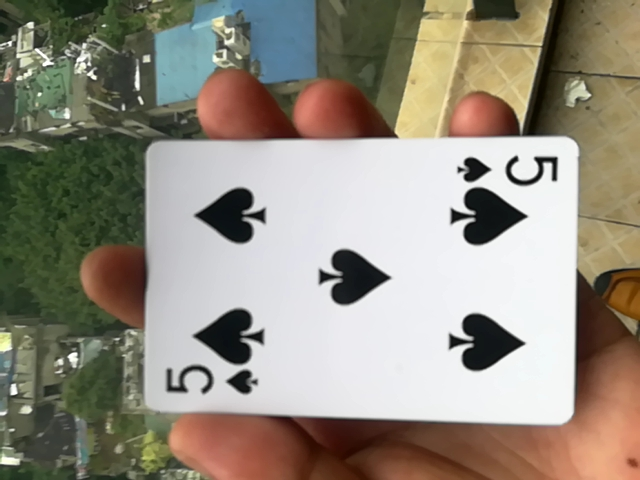ht 5: (124, 132, 572, 434)
